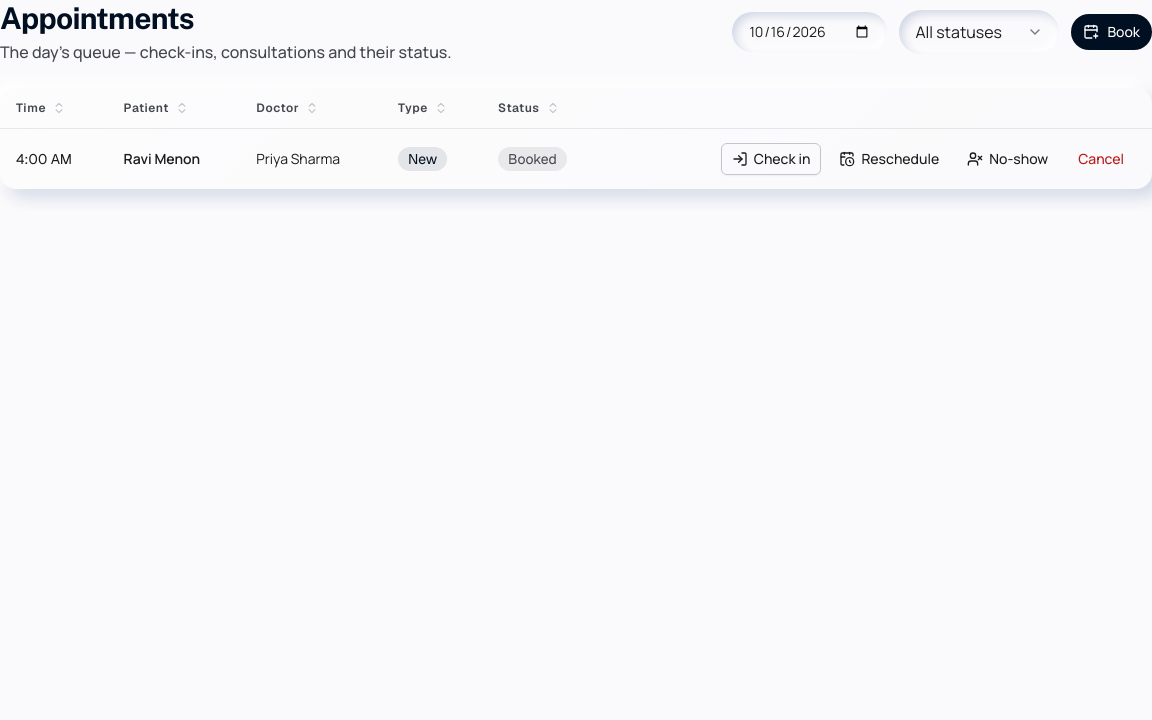
Test: the reschedule dialog › opens on the appointment's own day and time, on the hospital's clock
The image size is (1152, 720).
Click the button "Reschedule" at (889, 159), box left=829, top=143, right=949, bottom=175
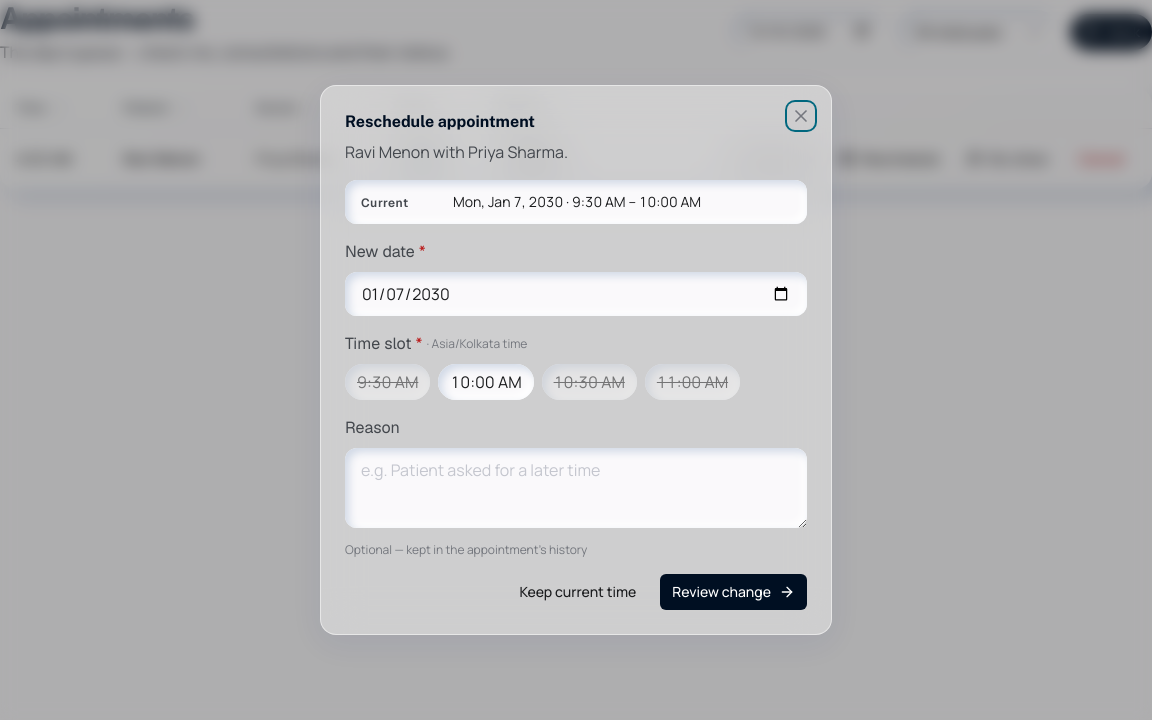
Check: the element named "Time slots" is shown, box left=345, top=332, right=807, bottom=400
Check: the text "Ravi Menon with Priya Sharma." is shown, box left=345, top=141, right=568, bottom=163
Check: the text "Mon, Jan 7, 2030 · 9:30 AM – 10:00 AM" is shown, box left=453, top=192, right=701, bottom=212
